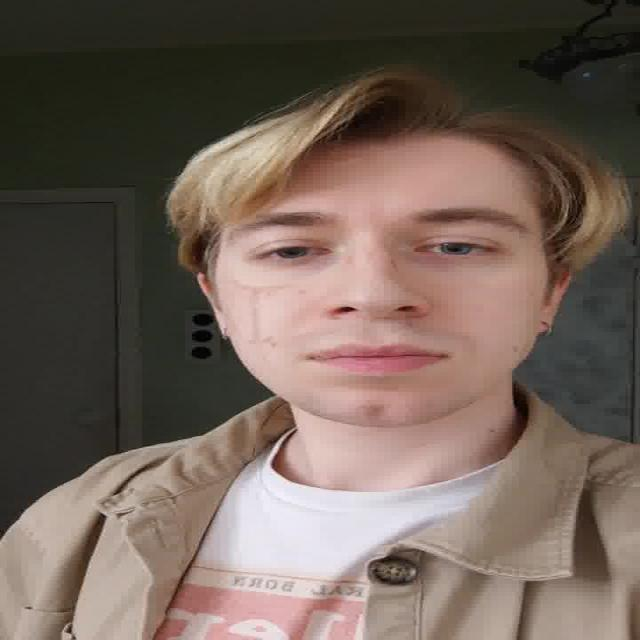earlobe: (535, 262, 577, 334), (196, 271, 228, 337)
